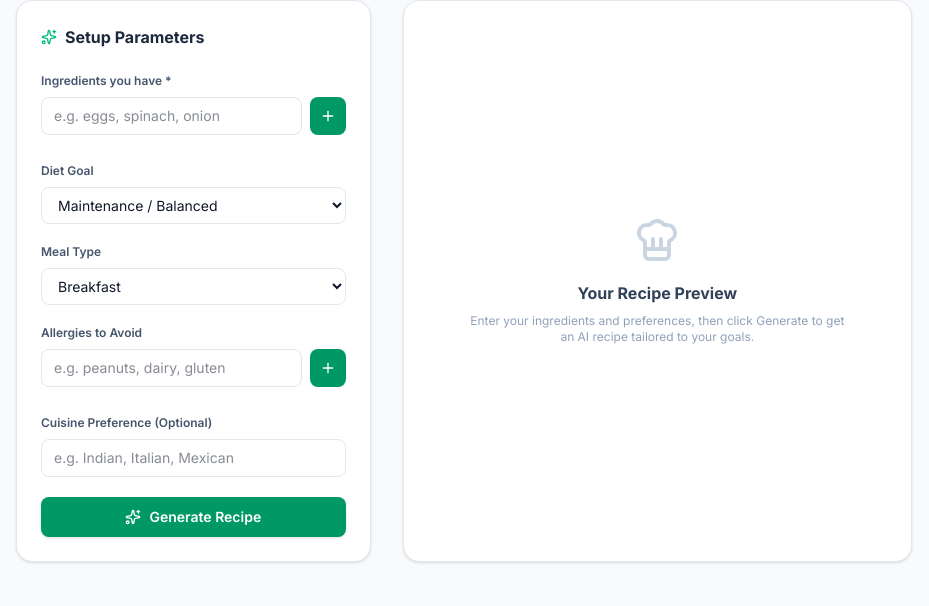
Scenario: RecipeGenerator Form Component › allows adding allergies to the avoid list
The image size is (929, 606).
In the field with placeholder "e.g. peanuts, dairy, gluten": (171, 368) [41,349,302,387], type "Peanuts"
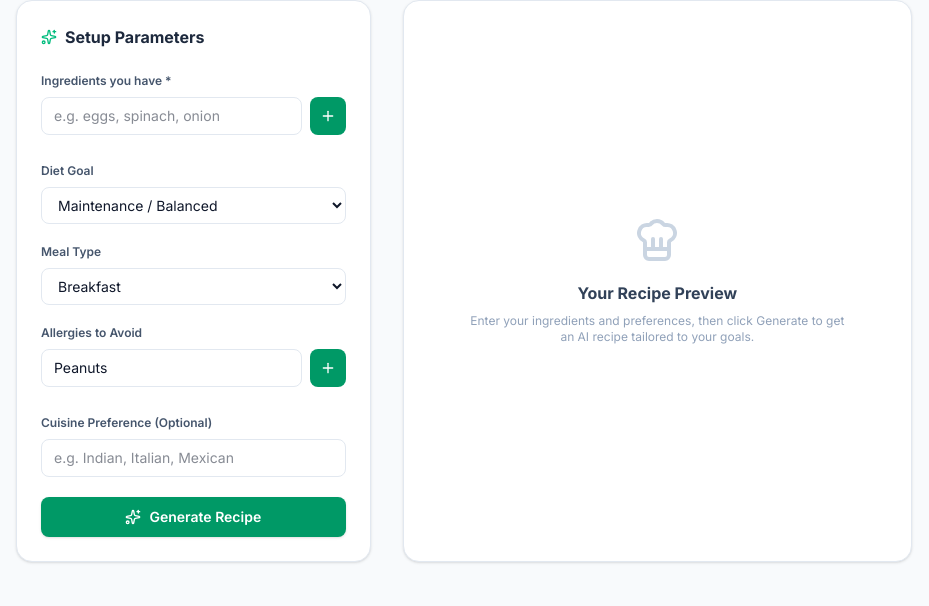
Click the button without text below "Allergies to Avoid": (328, 368) [310,349,346,387]
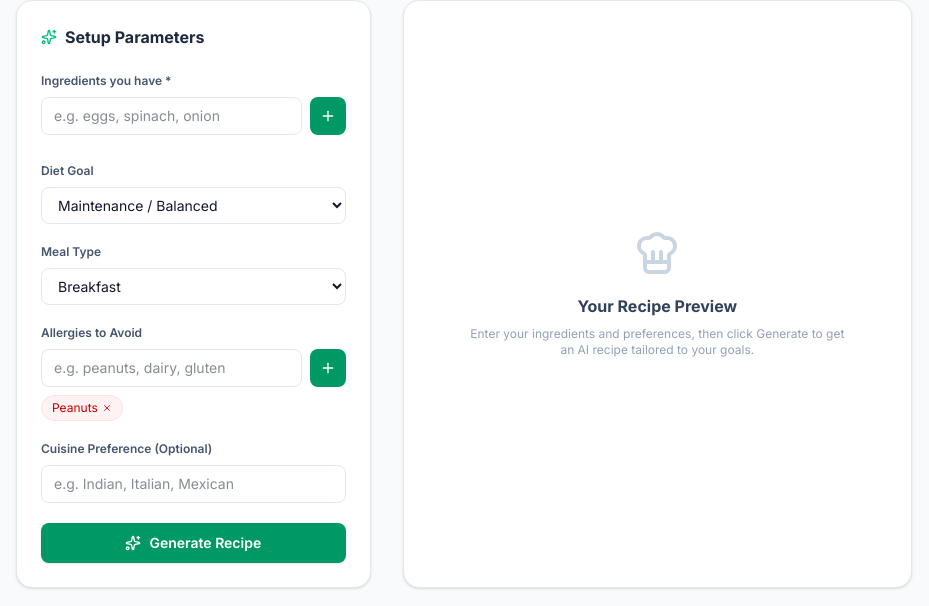
expect the text "Peanuts" is shown: met, box [41,395,123,421]
